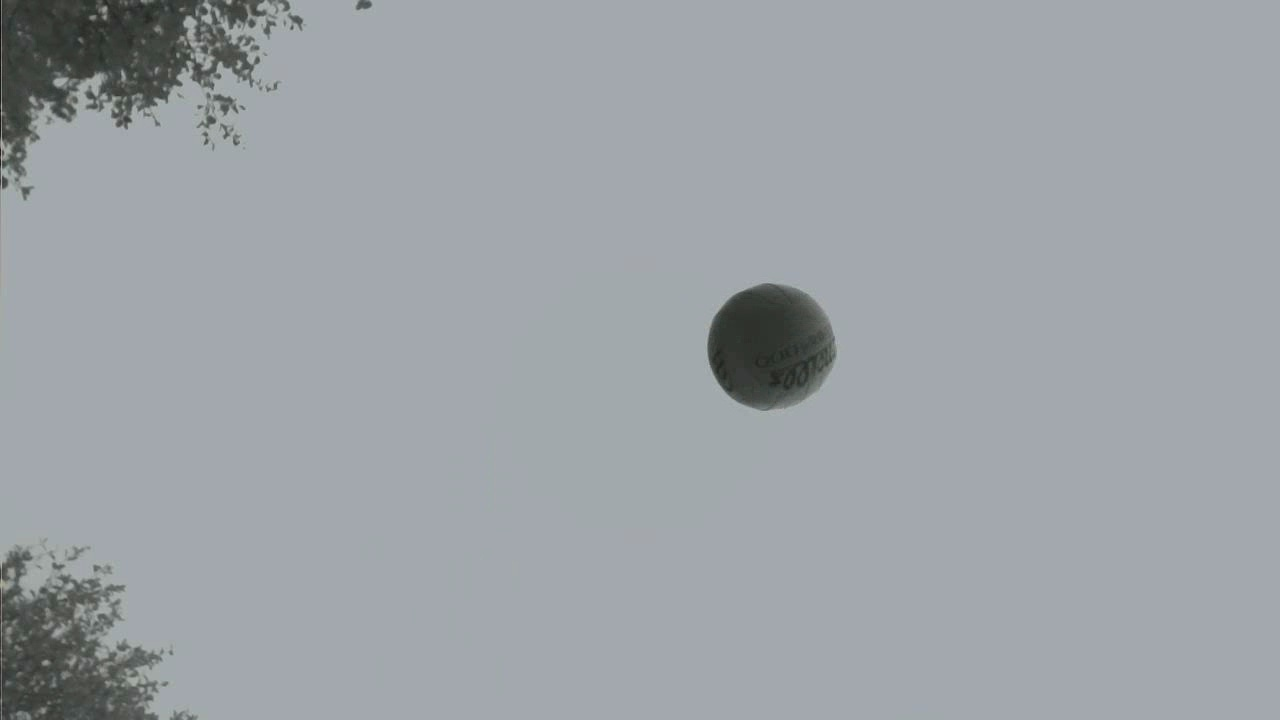Football-Spotter: (707, 284, 834, 409)
